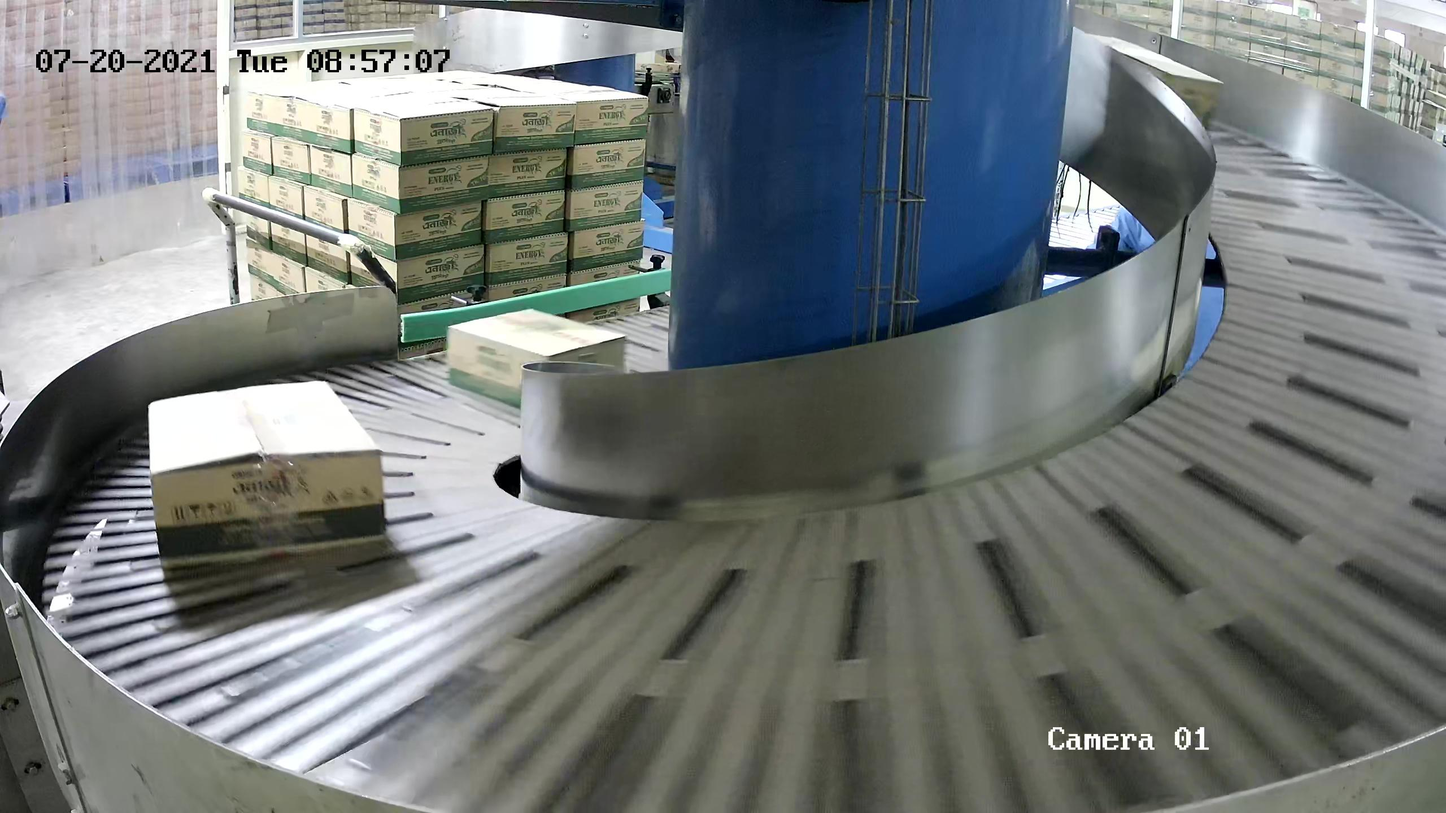Box: (148, 378, 391, 572), (446, 308, 628, 417)
